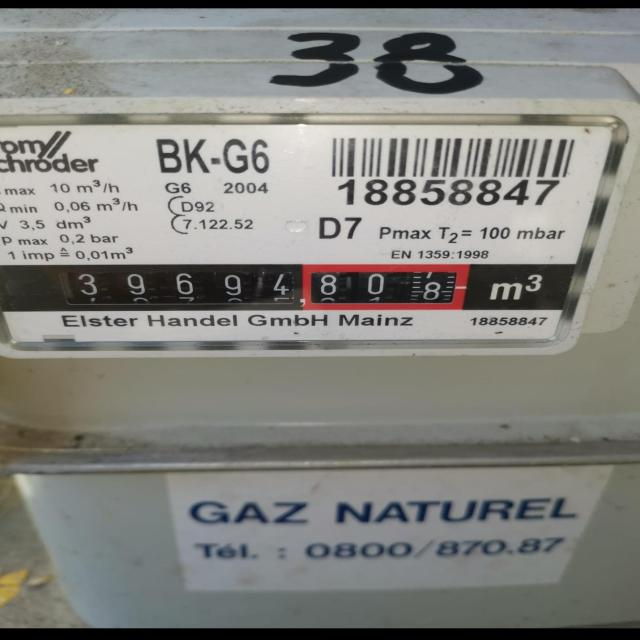gaz_meter: (0, 110, 620, 359)
indication: (1, 264, 471, 310)
